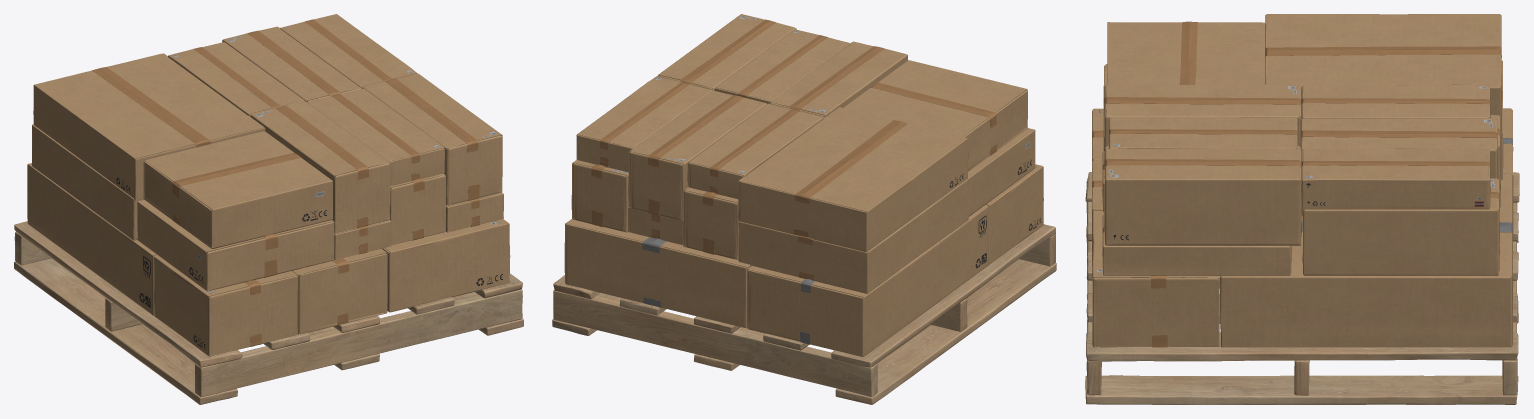
File: pallet_assembly_a02.glb
The picture shows the model from 3 angles, left to right: view 1: azimuth 30°, elevation 25°; view 2: azimuth 150°, elevation 25°; view 3: azimuth 270°, elevation 25°; orthographic projection. The views are drawn at different scales.
Parts seen in each view (by area): view 1: sm_pallet_assembly_a02_mesh_00; view 2: sm_pallet_assembly_a02_mesh_00; view 3: sm_pallet_assembly_a02_mesh_00.
Boxes of the visible parts, x1,y1,x2,y2 form: sm_pallet_assembly_a02_mesh_00: (14,14,523,404); sm_pallet_assembly_a02_mesh_00: (552,14,1056,404); sm_pallet_assembly_a02_mesh_00: (1085,14,1519,404).
Size of the model in its own units: 0.9014 by 0.5052 by 0.9035.
4 materials, 4 textured.
